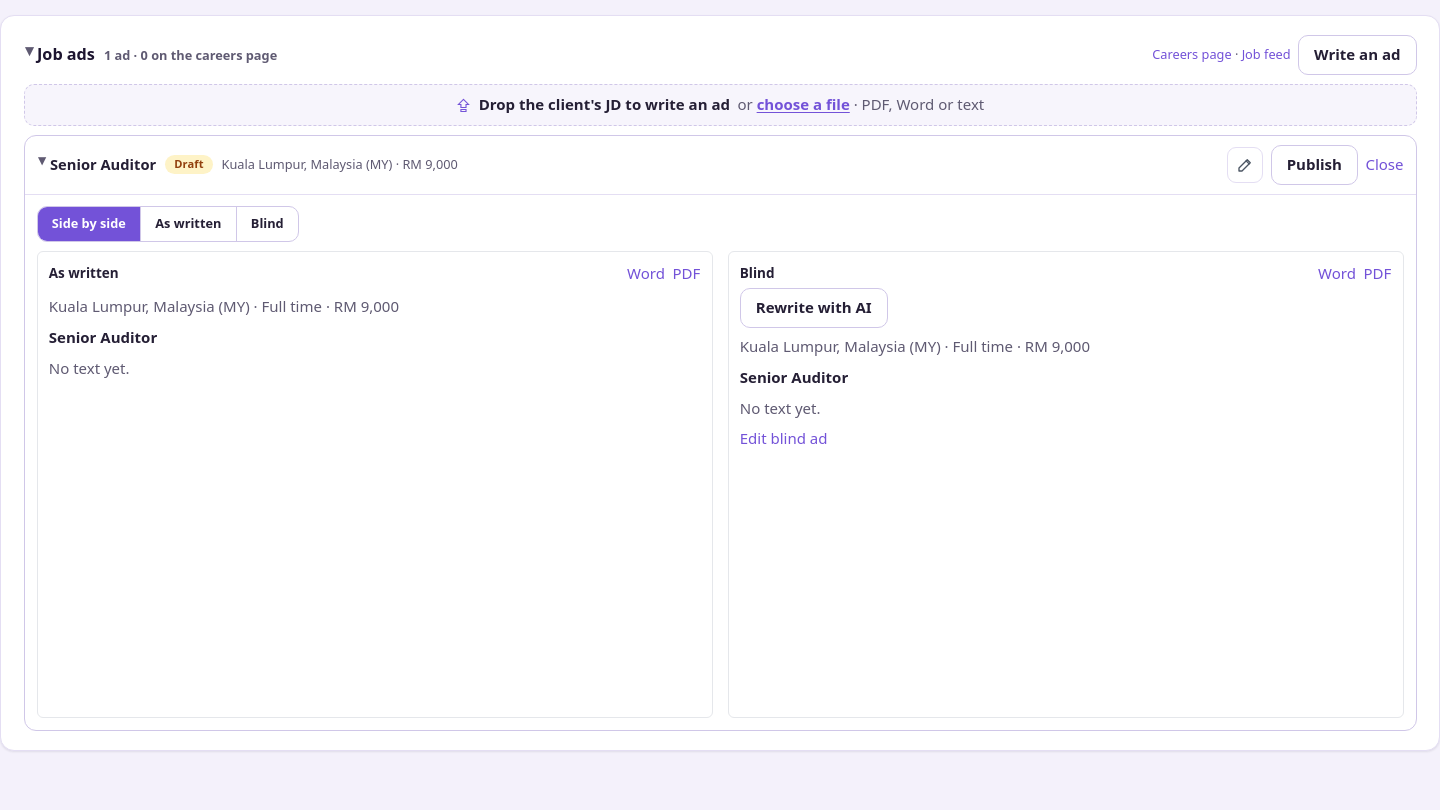
job ads › publishes with the ad's version and says why when it cannot
Click the button "Publish".
click(1314, 164)  # box [1271,144,1358,184]
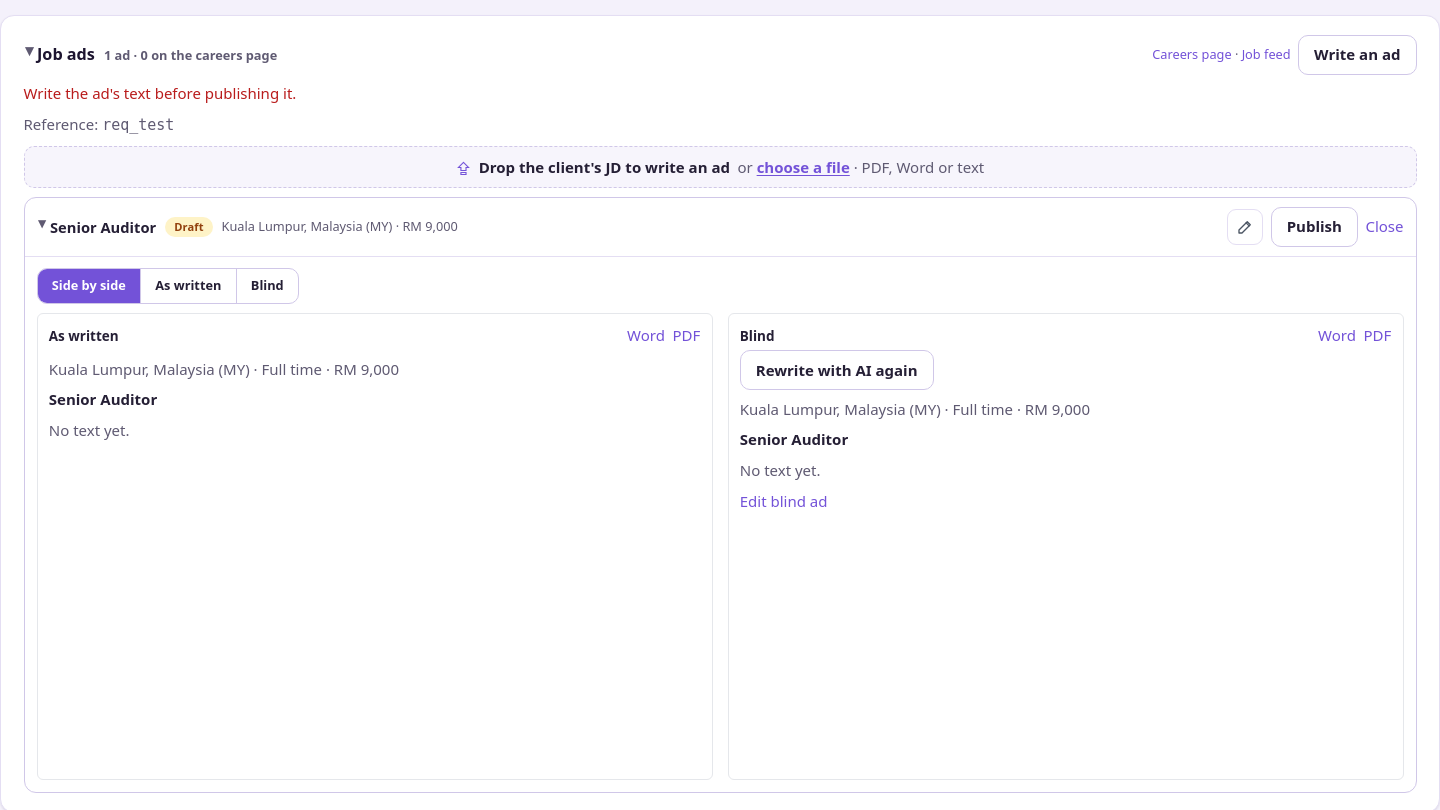
Check: the text "Write the ad's text before publishing it." is shown, box [24,83,296,103]
